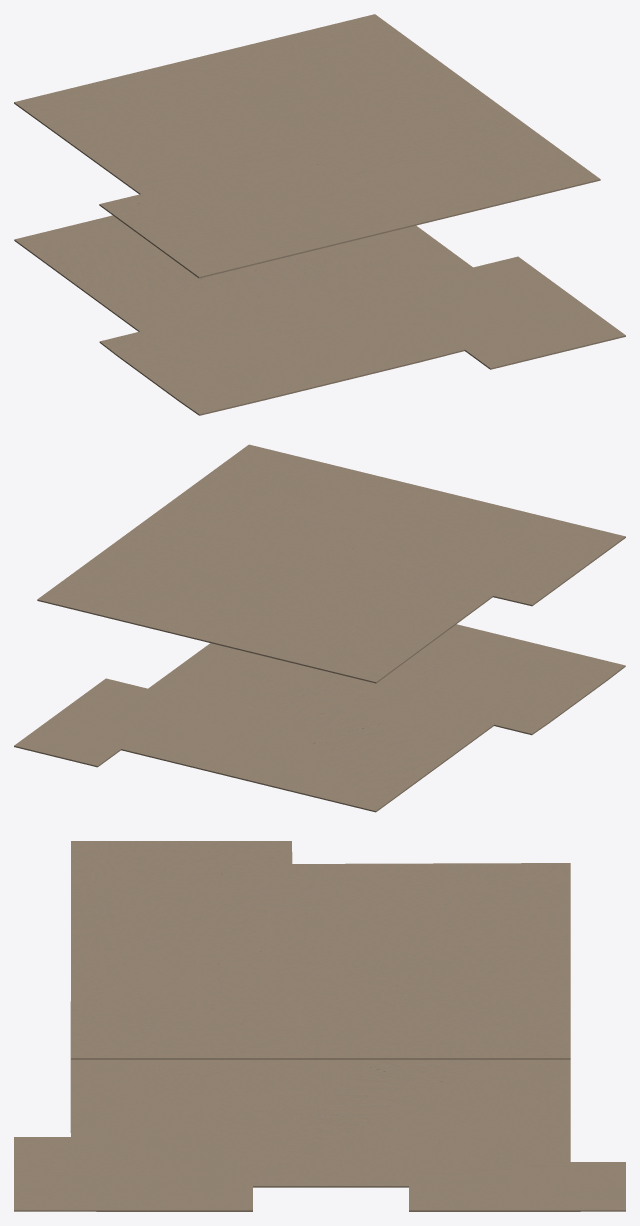
File: door.fbx
The picture shows the model from 3 angles, top to bottom: view 1: azimuth 30°, elevation 25°; view 2: azimuth 150°, elevation 25°; view 3: azimuth 270°, elevation 25°; orthographic projection. The views are drawn at different scales.
Parts seen in each view (by area): view 1: top ceiling, ceiling; view 2: top ceiling, ceiling; view 3: top ceiling, ceiling.
Part boxes in pixels (bbox=[...]): top ceiling: bbox=[14, 14, 600, 278]; ceiling: bbox=[14, 215, 625, 415]; top ceiling: bbox=[37, 444, 625, 683]; ceiling: bbox=[14, 624, 625, 812]; top ceiling: bbox=[71, 841, 570, 1059]; ceiling: bbox=[14, 1001, 625, 1211].
Size of the model in its own units: 881 by 292 by 1049.
